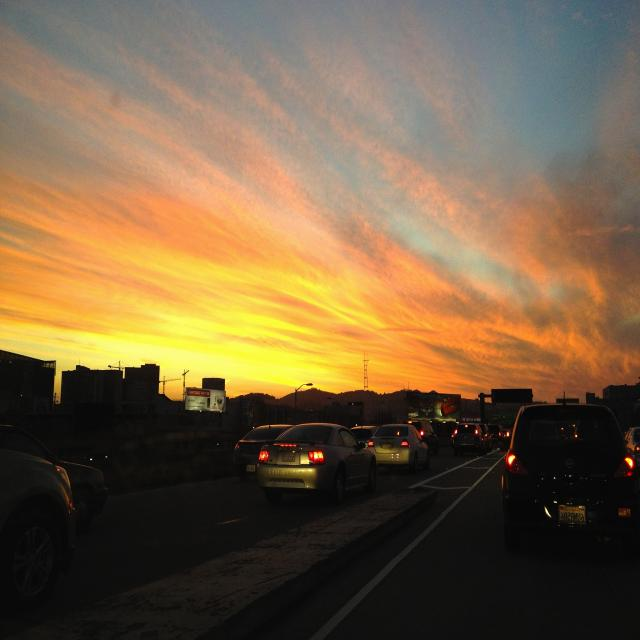Vehicle: (498, 401, 634, 573), (255, 422, 373, 503), (376, 418, 432, 468)
